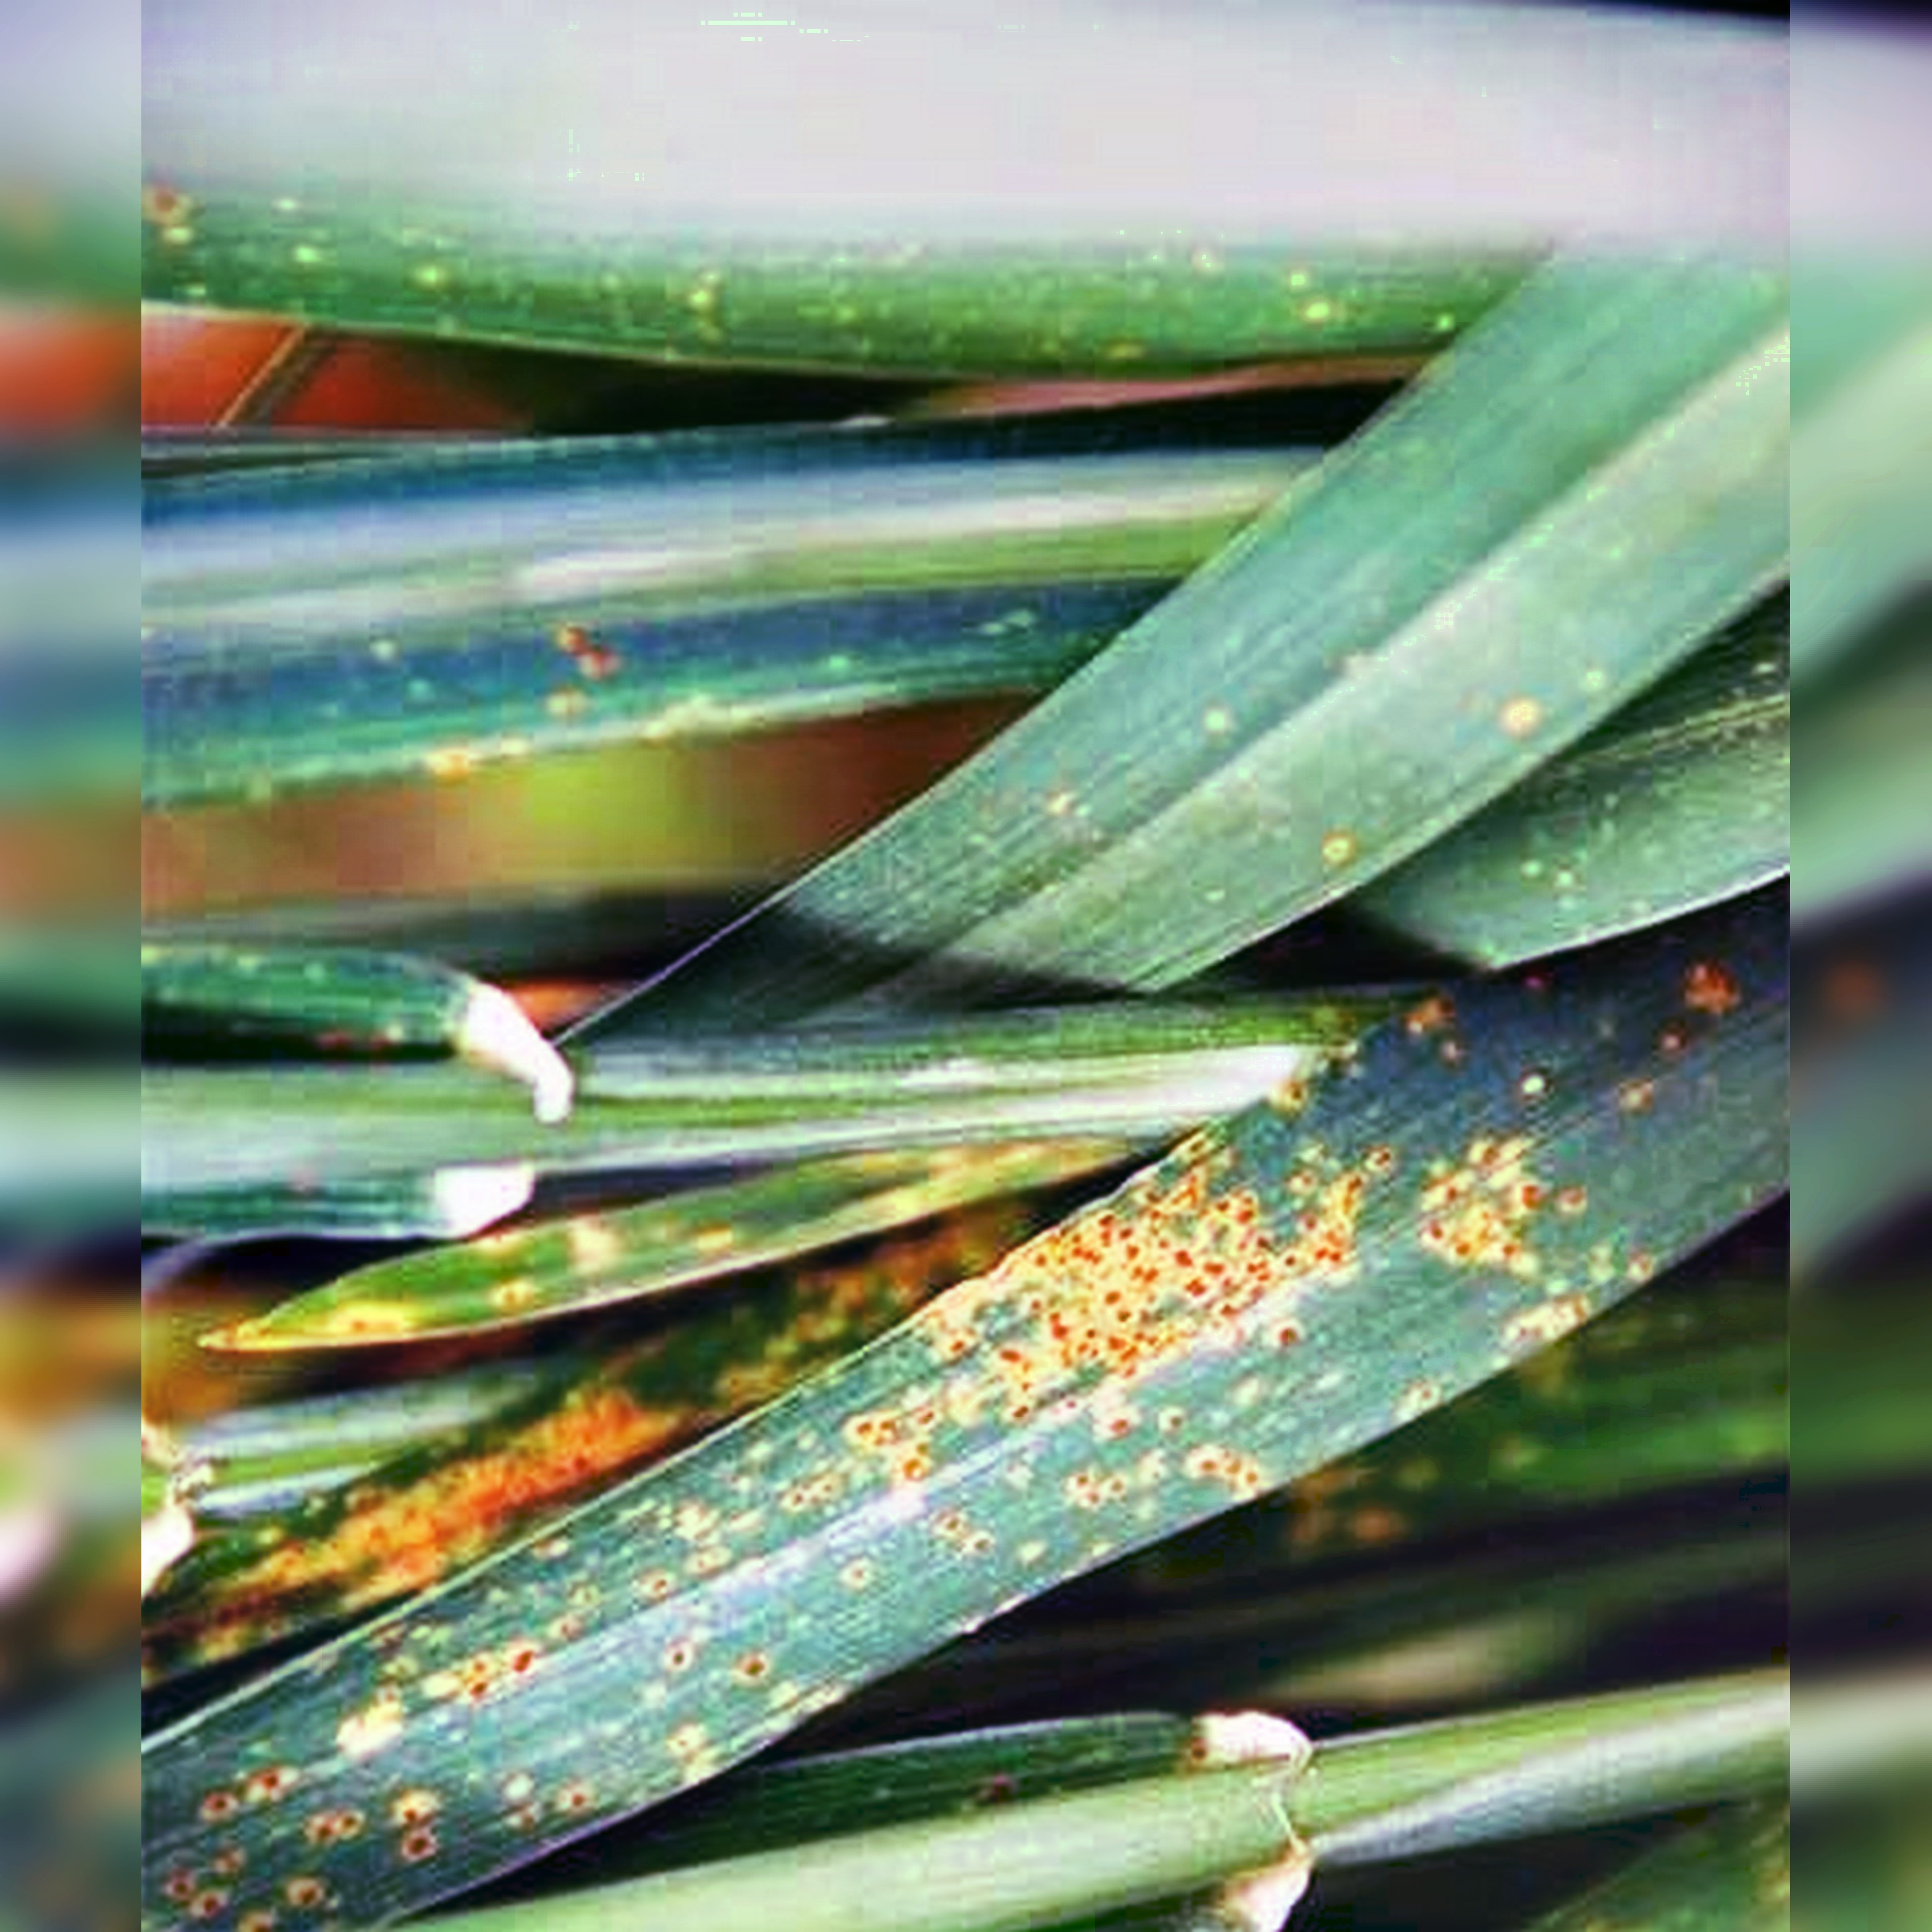Leaf Rust: (433, 1010, 1599, 1783)
